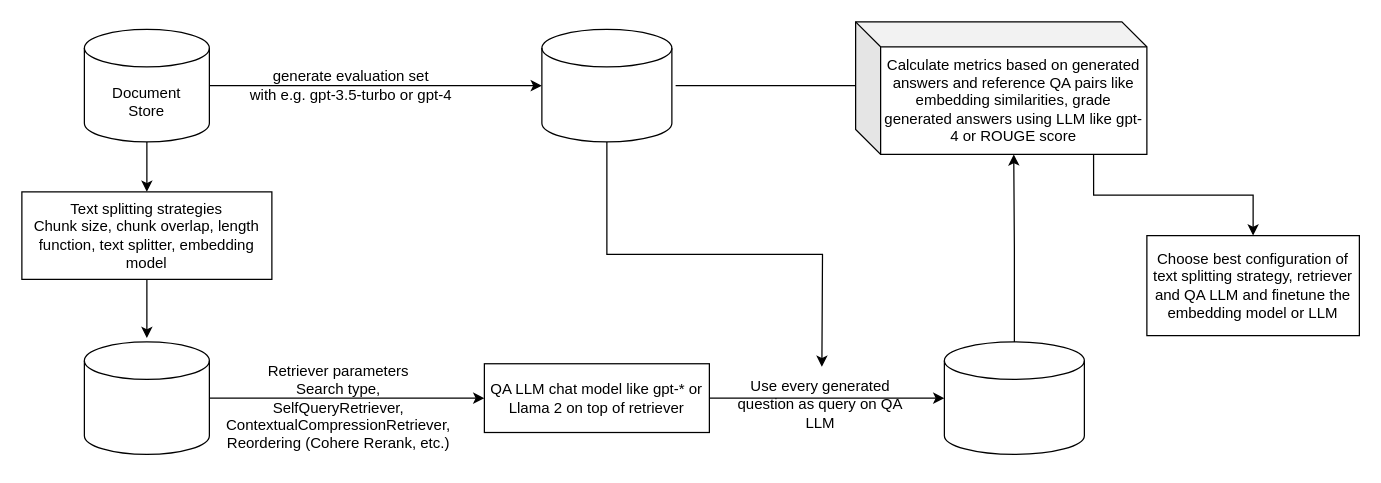
This 1381x483 diagram has some shape labels left out. The shapes that lost their labels are listed below. From the top down, each one's centre as x and y in pixels, then its label:
At point (606, 85): "QA pairs as evaluation set".
At point (146, 397): "Vectorstore ChromaDB, etc.".
At point (1013, 397): "LLM(query, vectorstore) Gen. answers".
